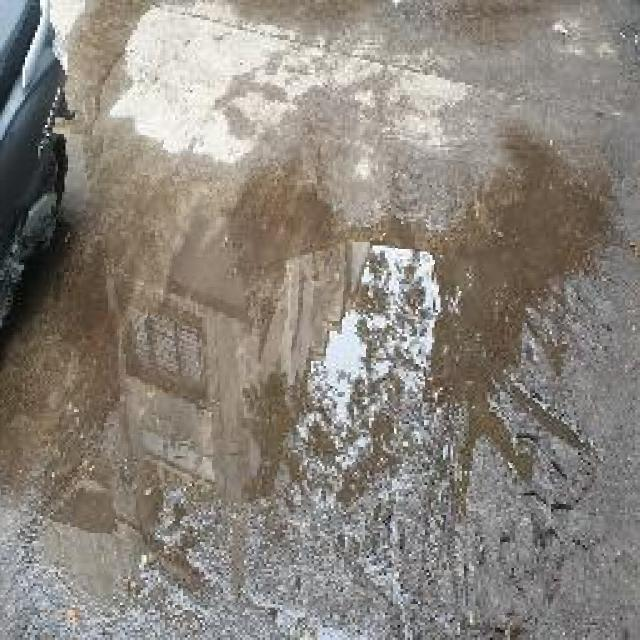puddle: (1, 138, 622, 614)
